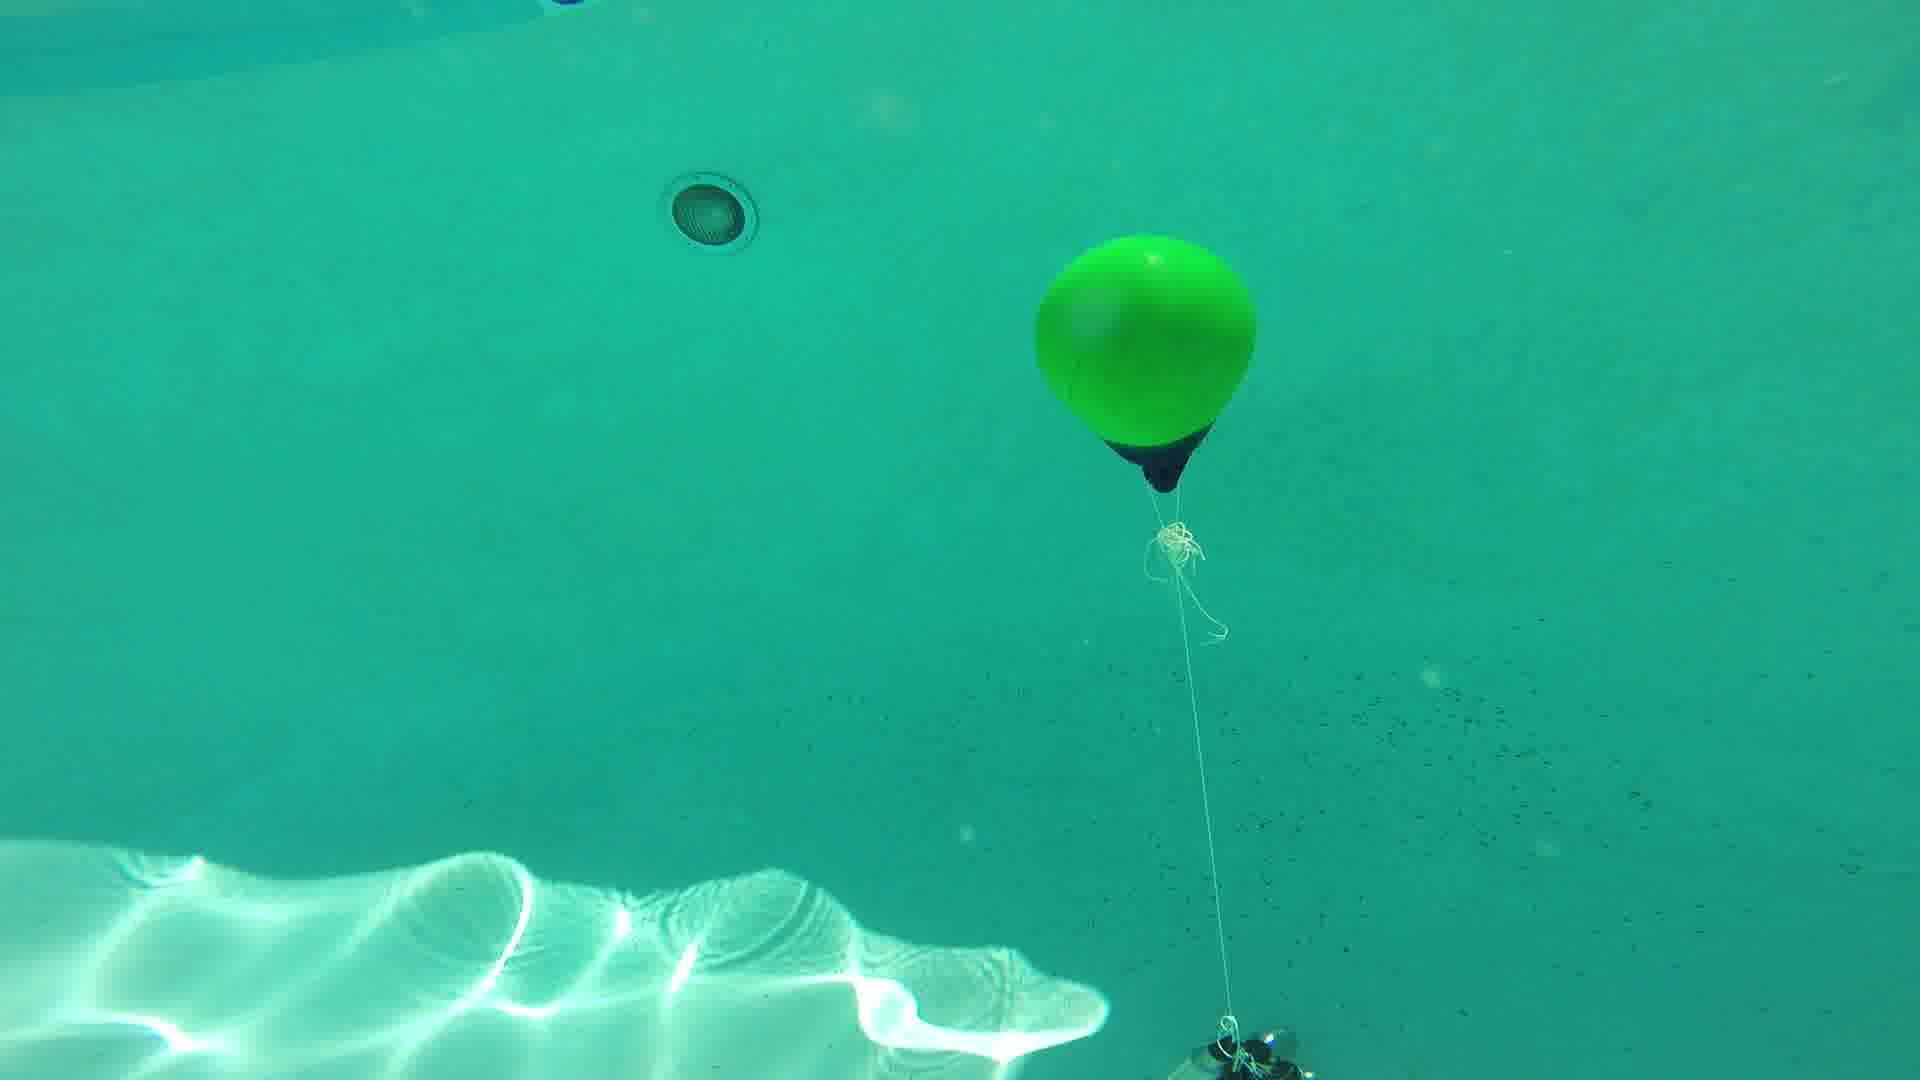yellow_buoy: (1035, 237, 1254, 496)
